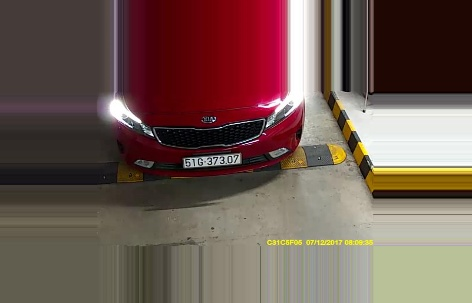plate: (180, 153, 241, 168)
